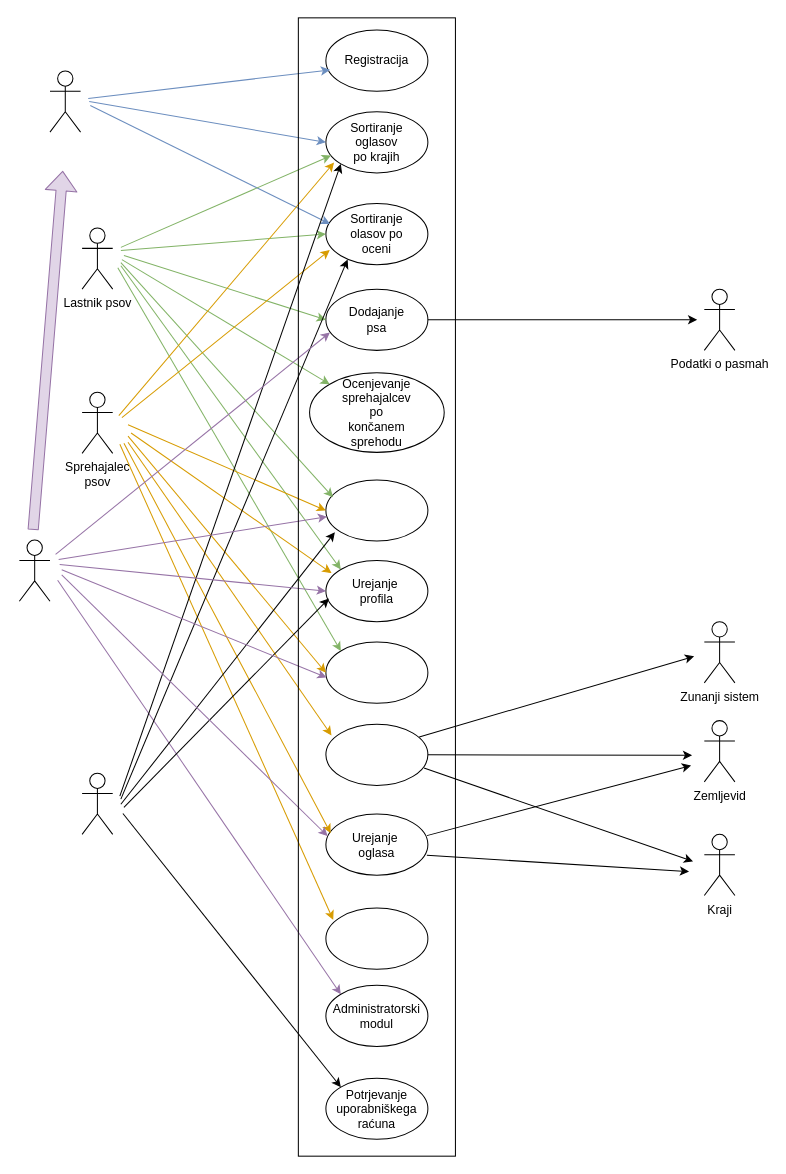
The diagram is 786 pixels wide and 1174 high, and some of its shapes have lost their labels. The shapes that lost their labels are listed below. From the top down, each one's box as (x1, y1, x2, y2) in pixels, then its label:
(49, 70, 81, 132): Neprijavljen uporabnik
(325, 479, 428, 541): Prijava
(18, 539, 50, 601): Admin
(325, 641, 428, 703): Klepet med skrbnikom in sprehajalcem
(325, 723, 428, 785): Objava oglasa
(81, 772, 113, 834): Potrjevalec uporabnikov
(325, 907, 428, 969): Ocenjevanje "težavnosti" psa
